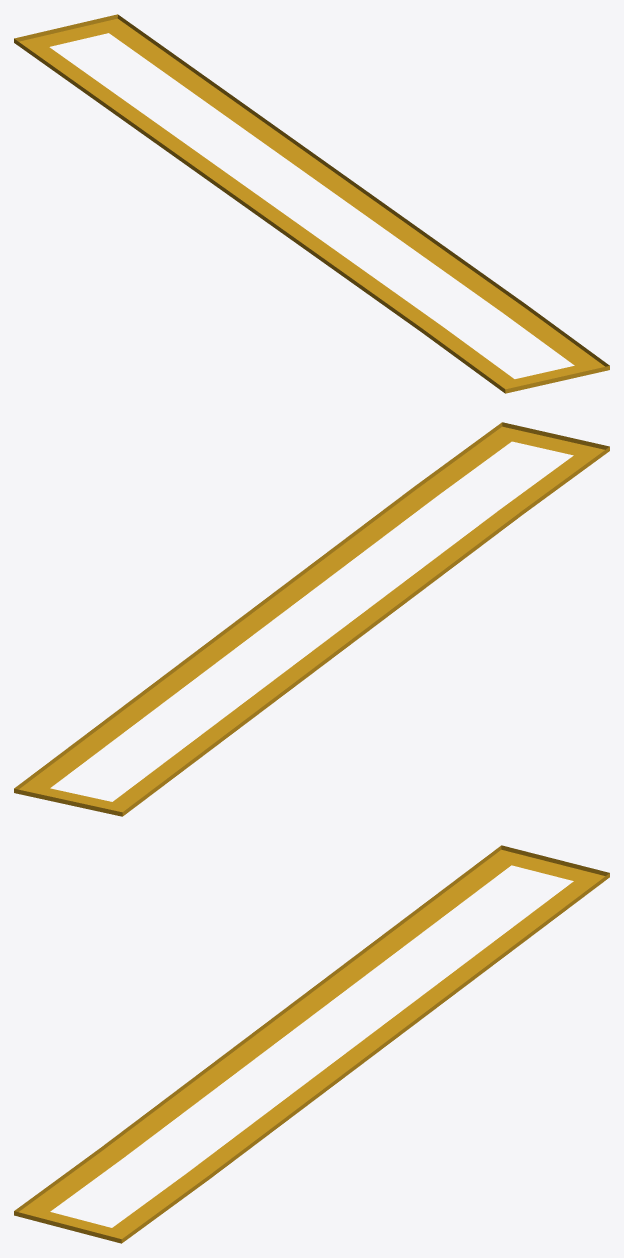
The model's file is original-22.obj.
3 renders of one model, top to bottom at view 1: azimuth 30°, elevation 25°; view 2: azimuth 150°, elevation 25°; view 3: azimuth 330°, elevation 25°, orthographic. The views are drawn at different scales.
Visible parts, largest first — view 1: #ID112; view 2: #ID112; view 3: #ID112.
Boxes of the visible parts, x1=… form: #ID112: x1=14, y1=14, x2=609, y2=393; #ID112: x1=14, y1=422, x2=609, y2=816; #ID112: x1=14, y1=845, x2=609, y2=1243.
Size of the model in its own units: 0.0278 by 0.00145 by 0.2047.
